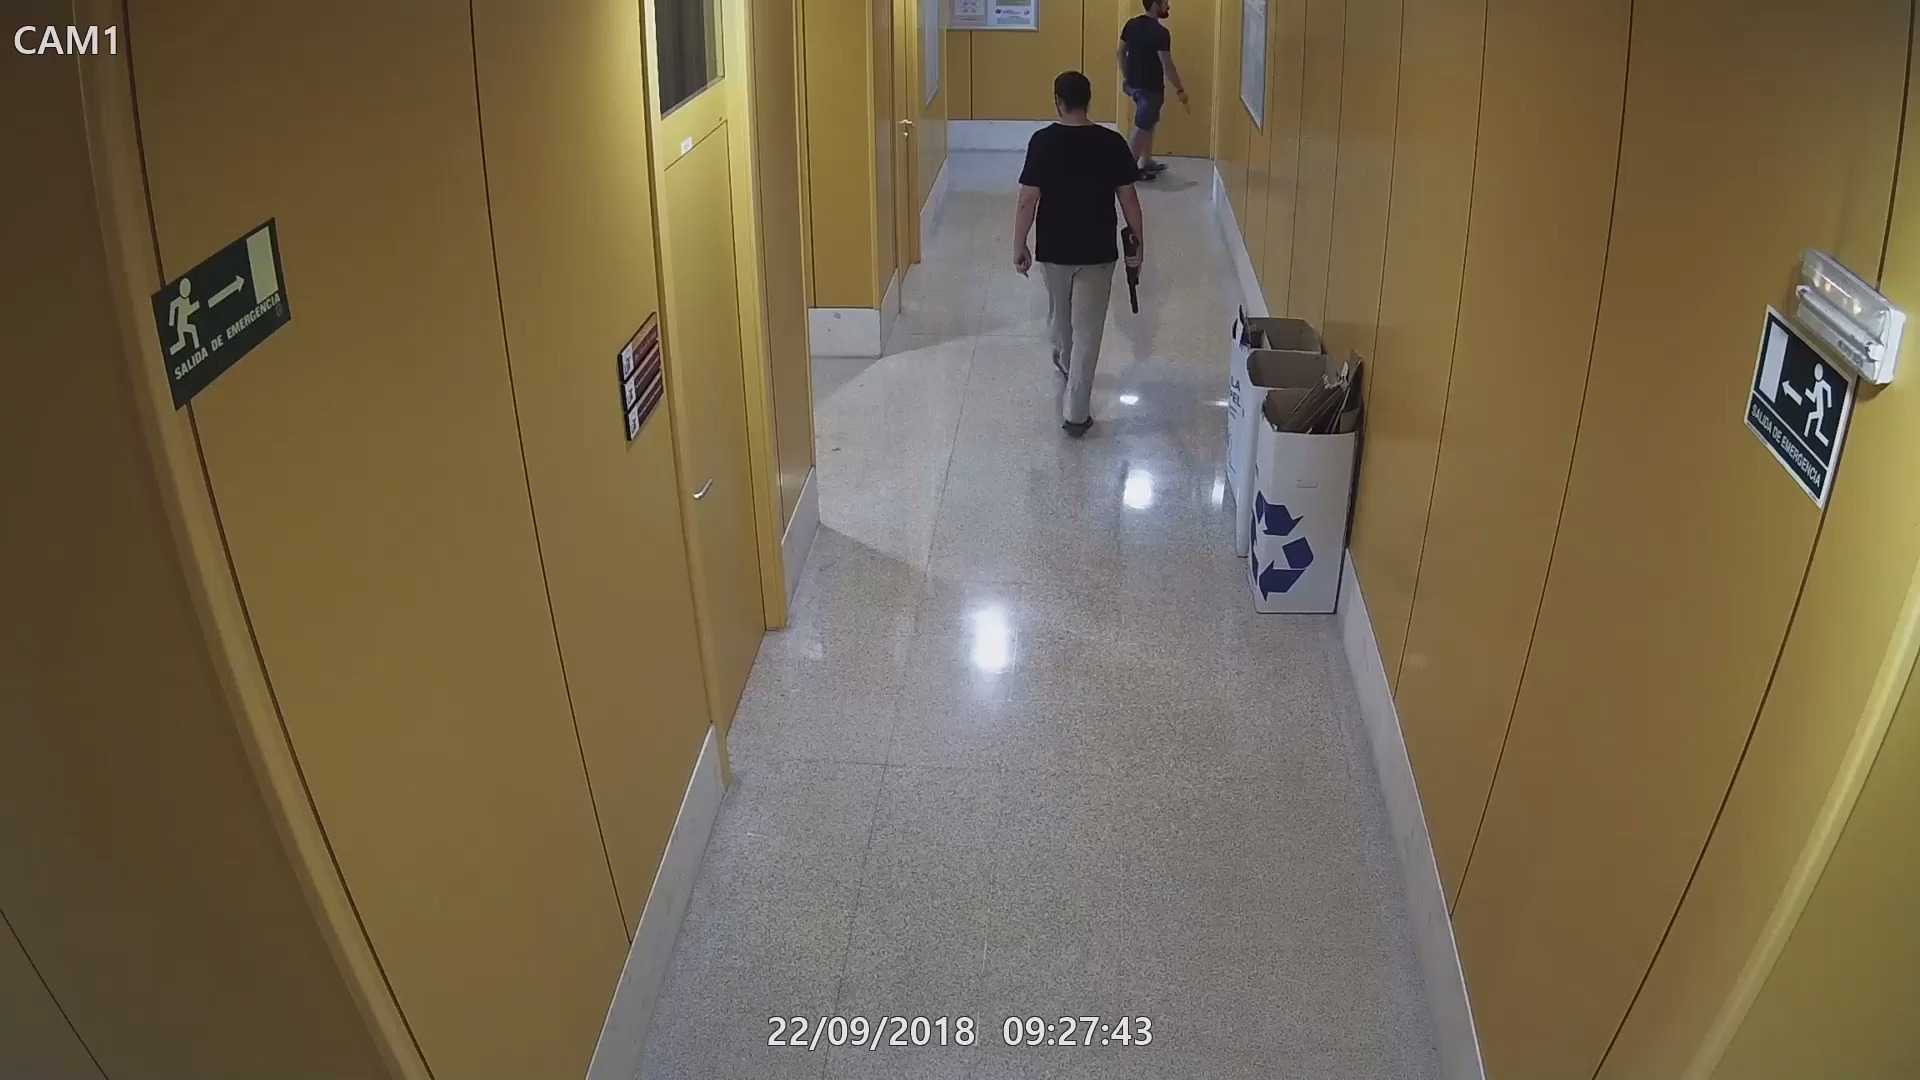Handgun: (1172, 80, 1197, 113)
Short_rifle: (1118, 222, 1147, 311)
